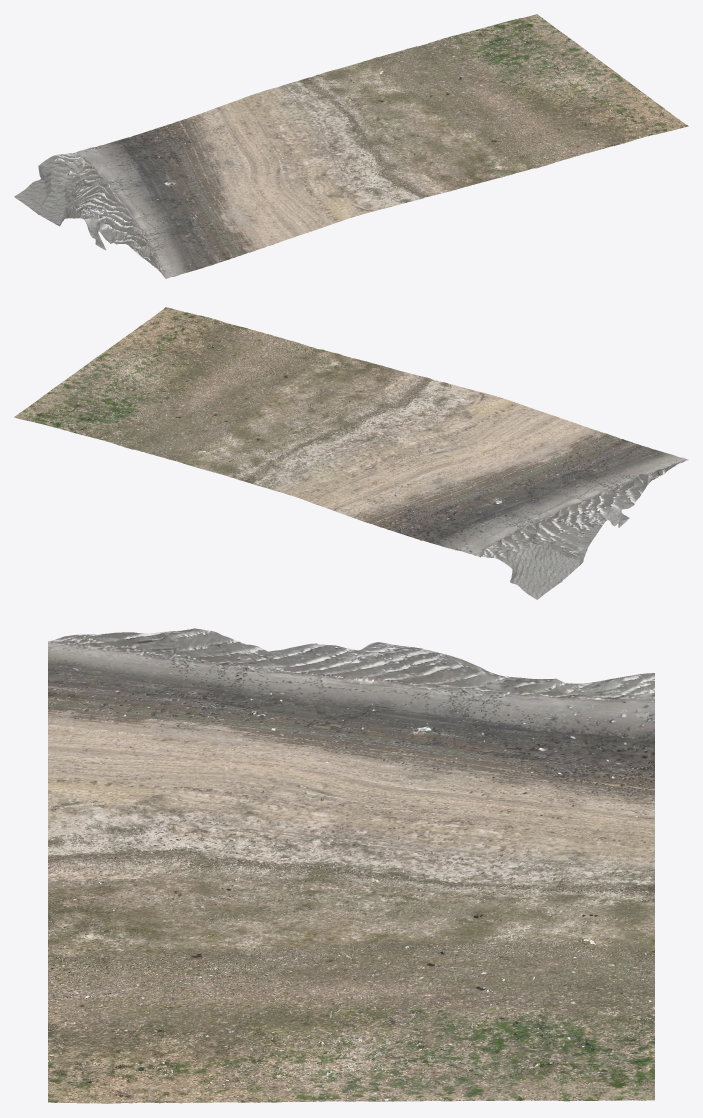
The model's file is BlockYXYB_L21_40.glb.
3 renders of one model, top to bottom at view 1: azimuth 30°, elevation 25°; view 2: azimuth 150°, elevation 25°; view 3: azimuth 270°, elevation 25°, orthographic. The views are drawn at different scales.
Parts seen in each view (by area): view 1: rtc; view 2: rtc; view 3: rtc.
Part boxes in pixels (x1,y1,x2,y2): rtc: (14,14,688,278); rtc: (14,307,688,599); rtc: (48,628,654,1103).
Size of the model in its own units: 59.46 by 6.12 by 29.88.
12 materials, 12 textured.
